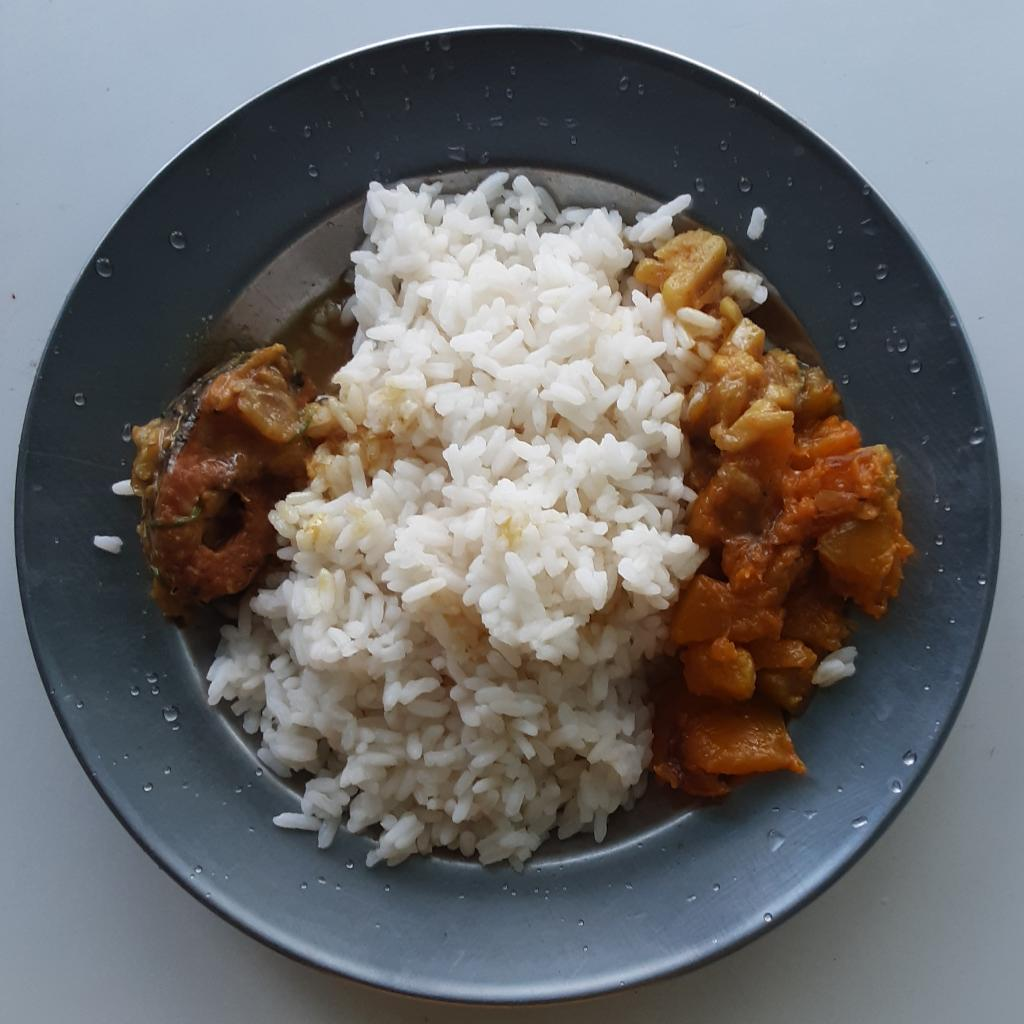fish: (129, 270, 347, 620)
kumra-vaji: (647, 324, 906, 804)
potato: (635, 226, 731, 312)
rice: (202, 169, 761, 878)
